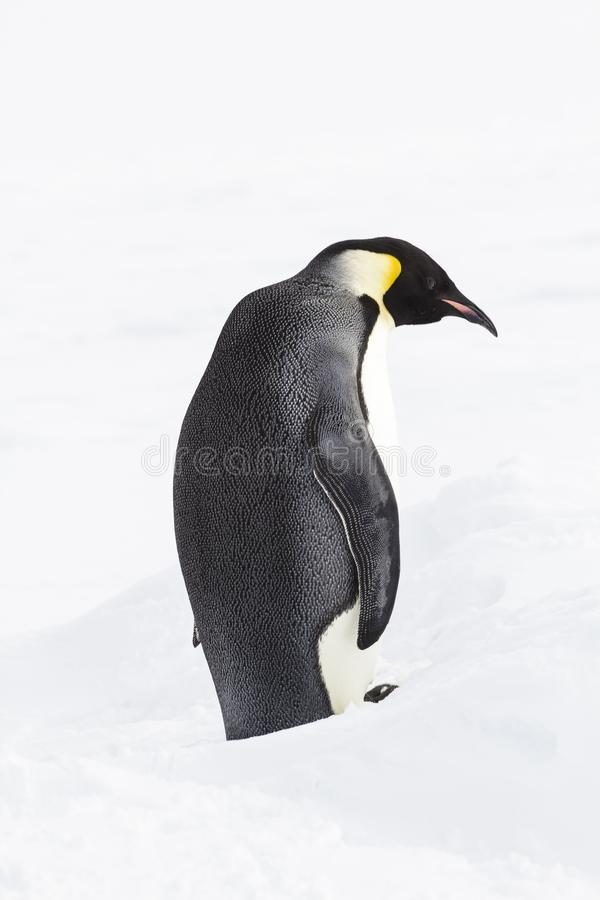emporer: (145, 206, 491, 742)
